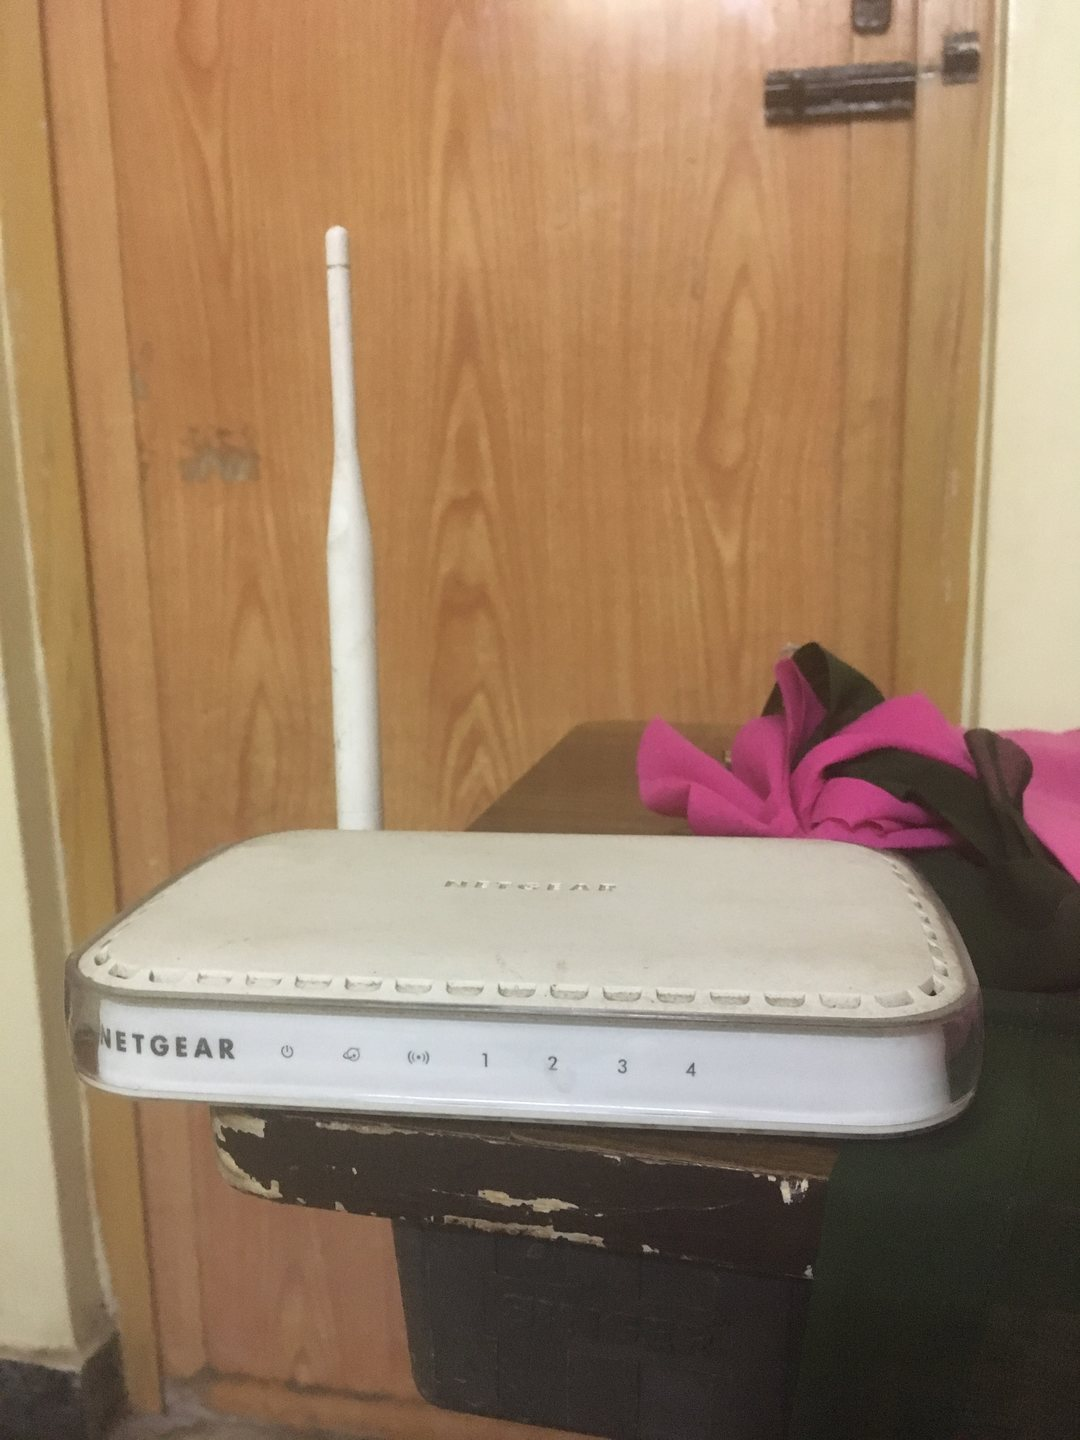NETGEAR: (94, 1017, 242, 1071)
modem: (62, 954, 989, 1135)
